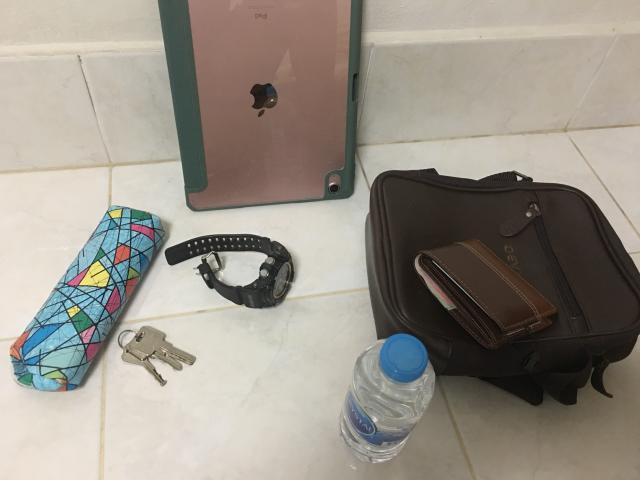Keys: (118, 326, 196, 385)
Wallet: (414, 239, 556, 349)
Watch: (165, 234, 294, 309)
bottle: (340, 334, 435, 462)
